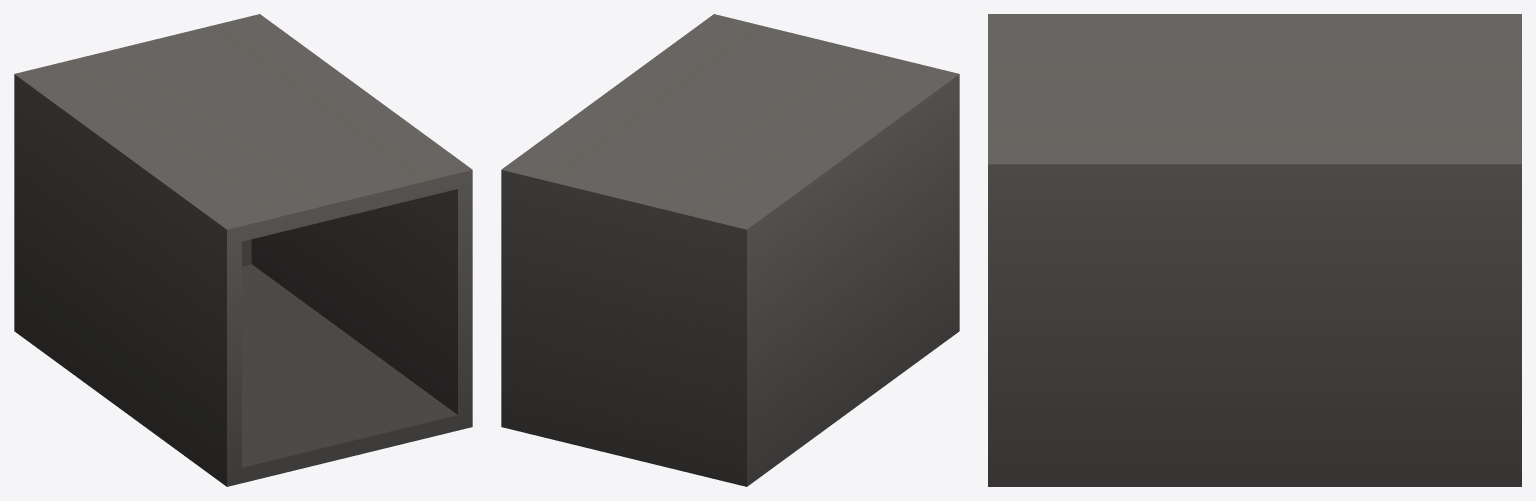
File: FilingCabinetSingle_Case.fbx
3 views of the same model, side by side, from view 1: azimuth 30°, elevation 25°; view 2: azimuth 150°, elevation 25°; view 3: azimuth 270°, elevation 25° (orthographic). The views are drawn at different scales.
Visible parts, largest first — view 1: FilingCabinetSingle_Case; view 2: FilingCabinetSingle_Case; view 3: FilingCabinetSingle_Case.
Part boxes in pixels (x1,y1,x2,y2): FilingCabinetSingle_Case: [14, 14, 472, 486]; FilingCabinetSingle_Case: [501, 14, 959, 486]; FilingCabinetSingle_Case: [988, 14, 1521, 486].
Size of the model in its own units: 37.98 by 37.98 by 56.97.
